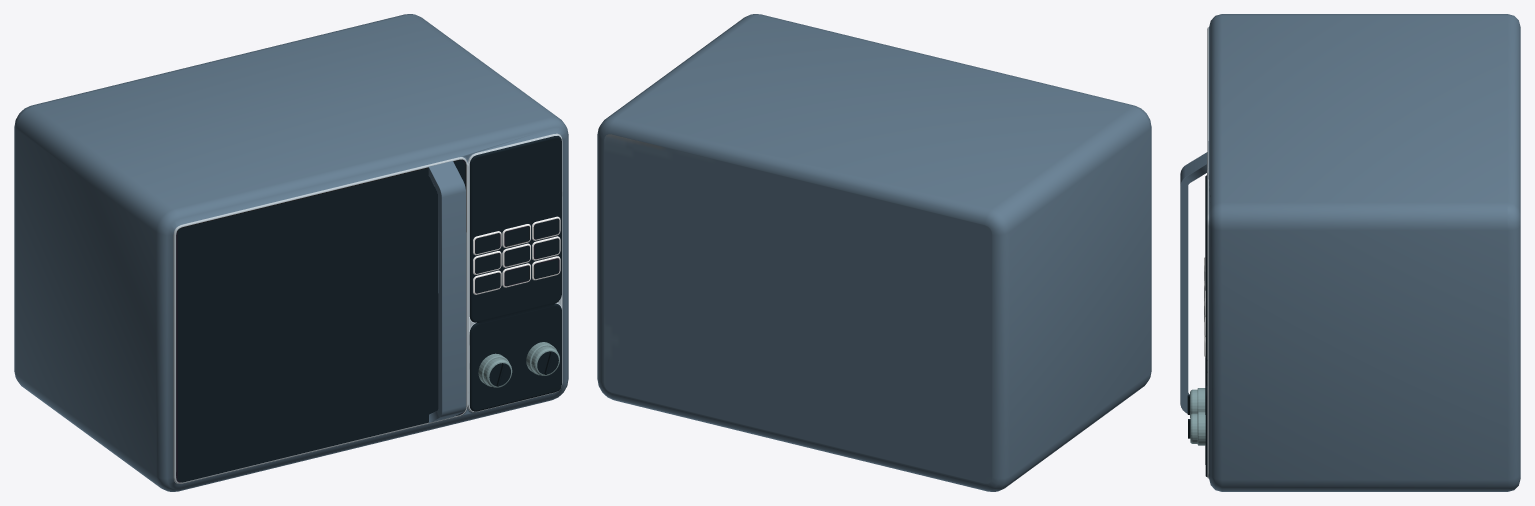
File: Mikro to'lqinli pech.fbx
3 renders of one model, left to right at view 1: azimuth 30°, elevation 25°; view 2: azimuth 150°, elevation 25°; view 3: azimuth 270°, elevation 25°, orthographic.
Parts seen in each view (by area): view 1: Plane.014; view 2: Plane.014; view 3: Plane.014.
Boxes of the visible parts, x1=… form: Plane.014: x1=14, y1=14, x2=568, y2=491; Plane.014: x1=597, y1=14, x2=1151, y2=491; Plane.014: x1=1180, y1=14, x2=1520, y2=491.
Size of the model in its own units: 200 by 131 by 141.
Materials: 1 (1 with a texture image).
